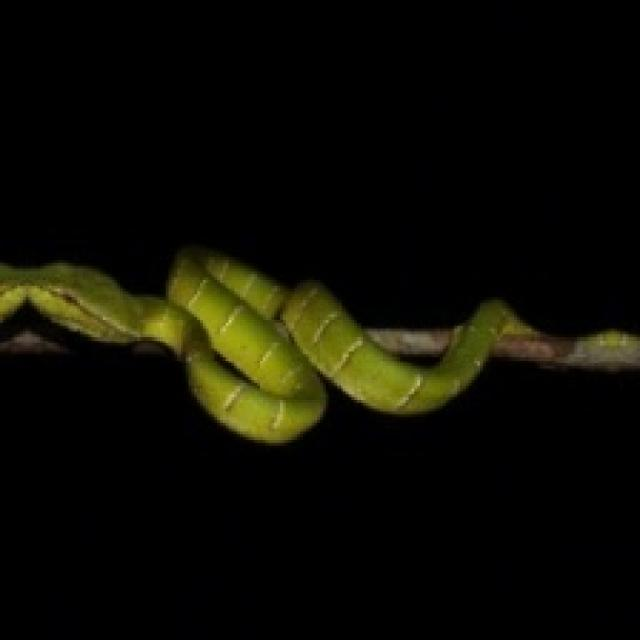north ph temple pitviper: (0, 246, 534, 440), (523, 331, 637, 366)
